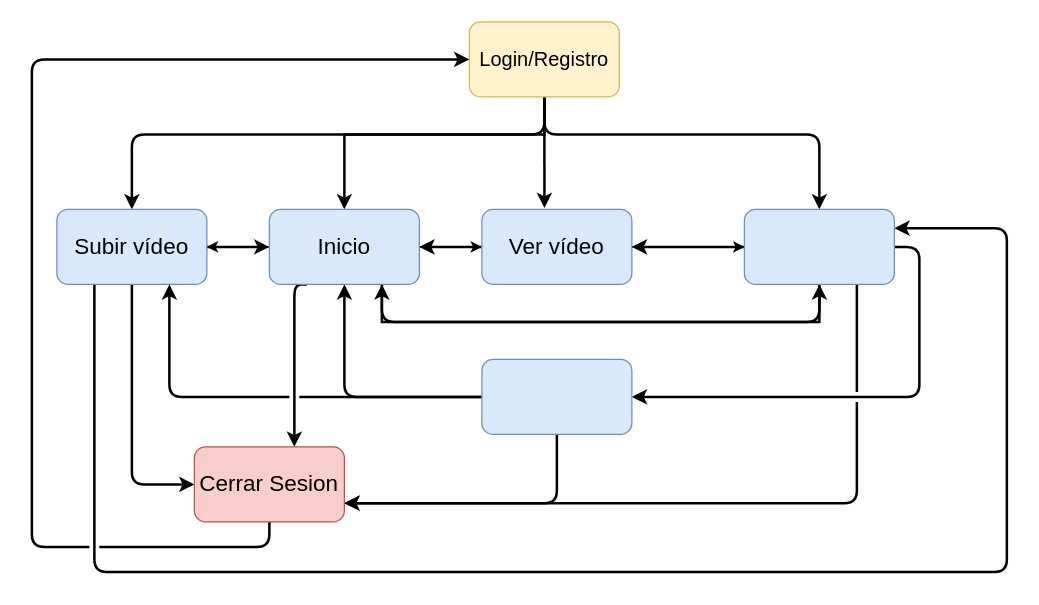
Some shapes in this 1039 by 605 pixel diagram are drawn without their labels. The shapes that lost their labels are listed below. From the top down, each one's box as (x1, y1, x2, y2) in pixels, then its label:
(743, 208, 894, 284): Mi canal
(481, 358, 632, 434): Administrar Canal
